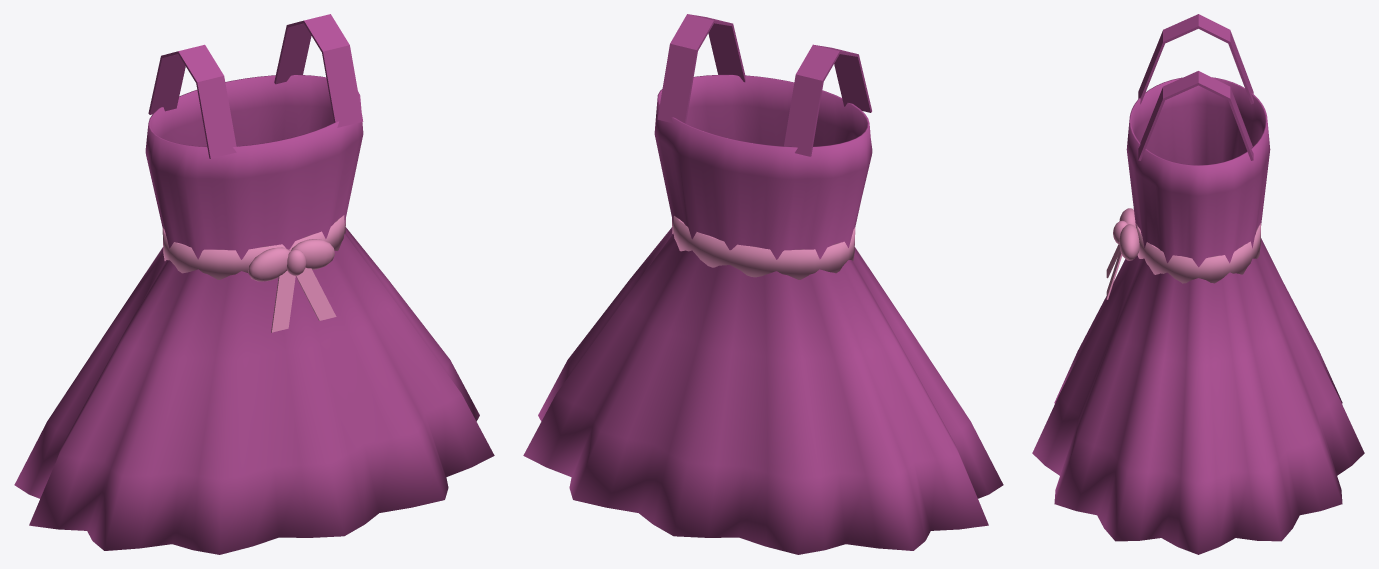
The model's file is dress_flared_party.glb.
3 views of the same model, side by side, from view 1: azimuth 30°, elevation 25°; view 2: azimuth 150°, elevation 25°; view 3: azimuth 270°, elevation 25° (orthographic). The views are drawn at different scales.
Visible parts, largest first — view 1: Party_Dress_Flared_Skirt, Party_Dress_Shoulder_Strap, Party_Dress_Shoulder_Strap.001, Party_Dress_Wide_Waist_Sash, Party_Dress_Bow_Loop, Party_Dress_Bow_Tail, Party_Dress_Bow_Tail.001, Party_Dress_Bow_Loop.001; view 2: Party_Dress_Flared_Skirt, Party_Dress_Shoulder_Strap, Party_Dress_Shoulder_Strap.001, Party_Dress_Wide_Waist_Sash; view 3: Party_Dress_Flared_Skirt, Party_Dress_Wide_Waist_Sash, Party_Dress_Shoulder_Strap, Party_Dress_Shoulder_Strap.001, Party_Dress_Bow_Loop.001.
Boxes of the visible parts, x1=… form: Party_Dress_Flared_Skirt: x1=14, y1=74, x2=494, y2=554; Party_Dress_Shoulder_Strap: x1=148, y1=44, x2=236, y2=158; Party_Dress_Shoulder_Strap.001: x1=274, y1=14, x2=363, y2=127; Party_Dress_Wide_Waist_Sash: x1=162, y1=215, x2=345, y2=279; Party_Dress_Bow_Loop: x1=248, y1=247, x2=290, y2=281; Party_Dress_Bow_Tail: x1=271, y1=270, x2=295, y2=332; Party_Dress_Bow_Tail.001: x1=296, y1=267, x2=336, y2=320; Party_Dress_Bow_Loop.001: x1=291, y1=239, x2=334, y2=269; Party_Dress_Flared_Skirt: x1=523, y1=74, x2=1003, y2=554; Party_Dress_Shoulder_Strap: x1=784, y1=44, x2=871, y2=156; Party_Dress_Shoulder_Strap.001: x1=657, y1=14, x2=745, y2=123; Party_Dress_Wide_Waist_Sash: x1=672, y1=216, x2=855, y2=279; Party_Dress_Flared_Skirt: x1=1032, y1=77, x2=1364, y2=554; Party_Dress_Wide_Waist_Sash: x1=1136, y1=223, x2=1260, y2=283; Party_Dress_Shoulder_Strap: x1=1138, y1=14, x2=1253, y2=104; Party_Dress_Shoulder_Strap.001: x1=1138, y1=71, x2=1253, y2=160; Party_Dress_Bow_Loop.001: x1=1119, y1=224, x2=1139, y2=260.
Bounding box in the file's own units: 0.9398 × 0.8739 × 0.649.
